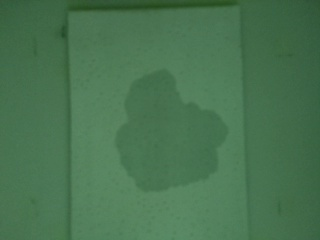Water_detected: (132, 83, 212, 180)
